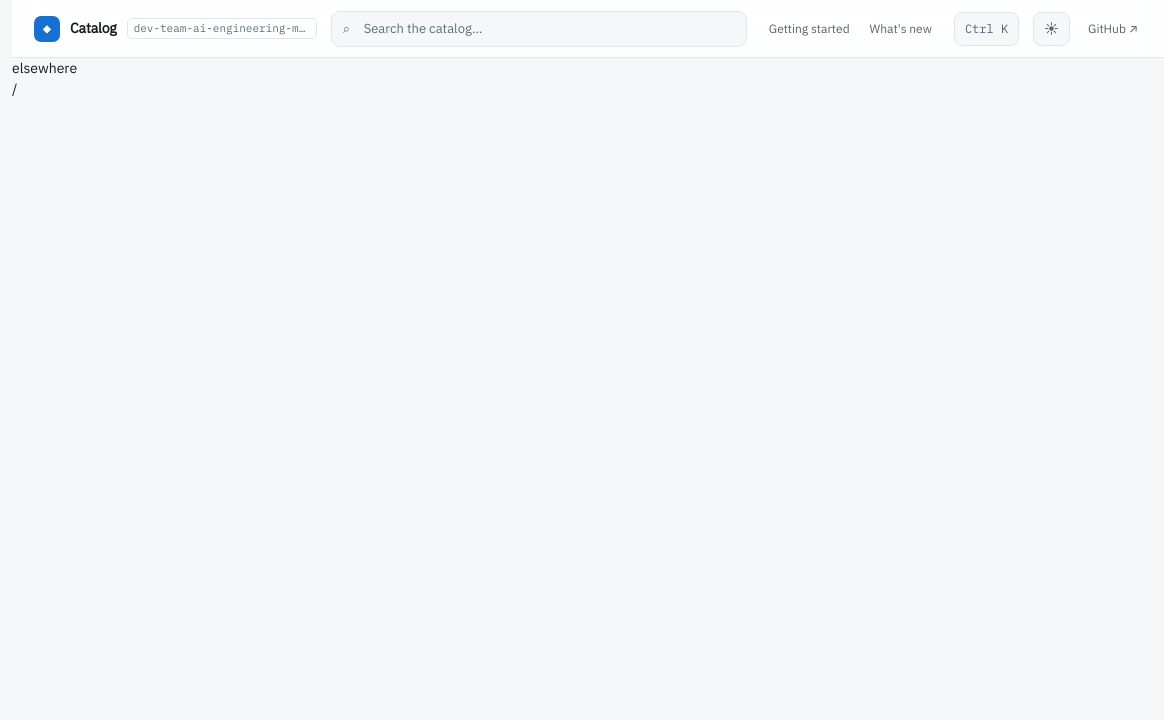
Test: the header field on another page opens the search with the query
Type "deploy" into the field labelled "Search the catalog". click: {"x": 539, "y": 28}
box: [331,10,747,46]
Then press Enter
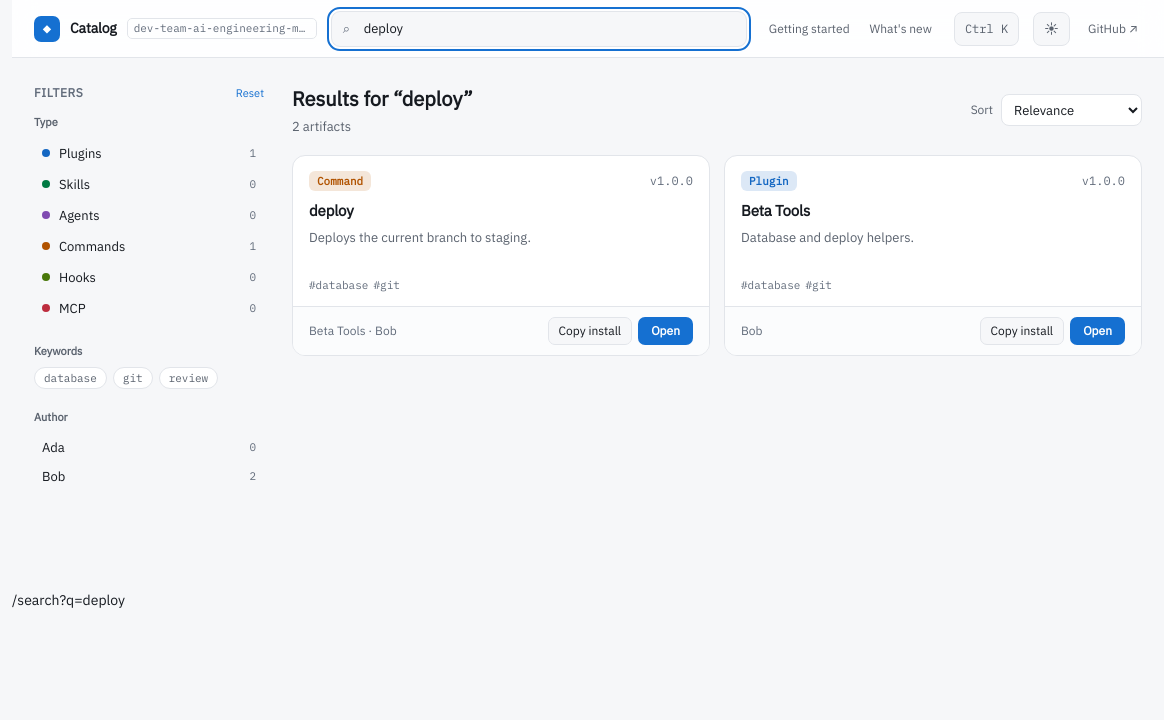
Expected: the text with test id "location" reads "/search?q=deploy", [12,590,125,608]
Expected: the heading "Results for “deploy”" is shown, [292,84,473,114]
